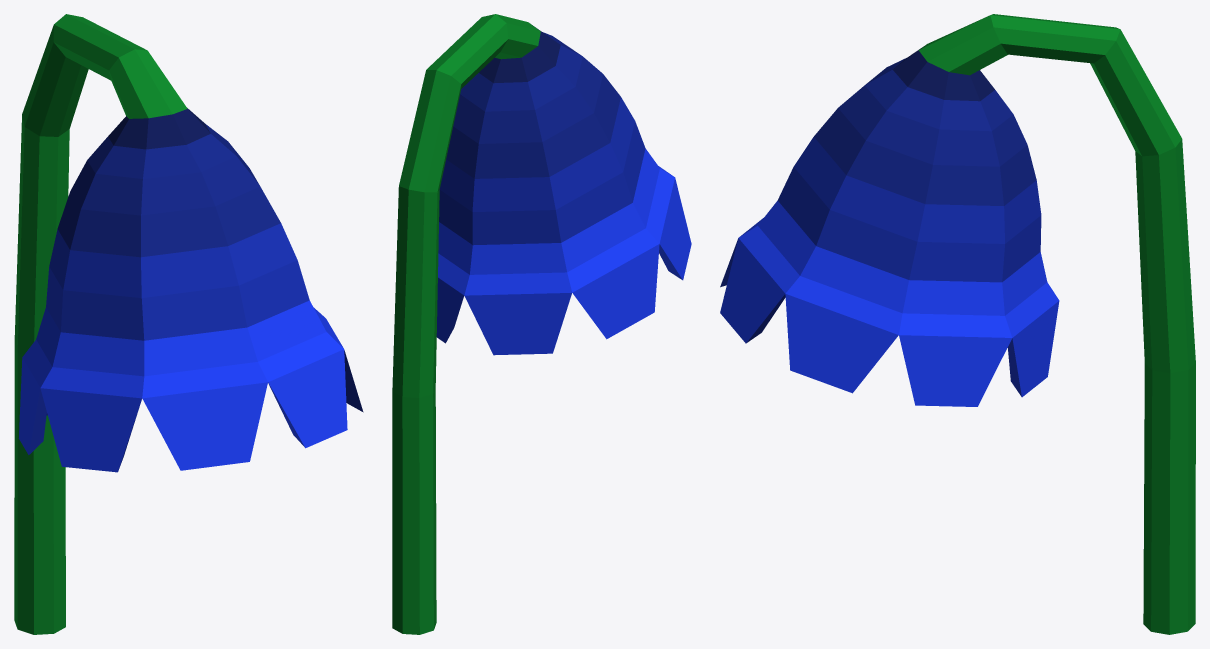
File: Flower2_animated.FBX
3 views of the same model, side by side, from view 1: azimuth 30°, elevation 25°; view 2: azimuth 150°, elevation 25°; view 3: azimuth 270°, elevation 25° (orthographic). The views are drawn at different scales.
Visible parts, largest first — view 1: Sphere; view 2: Sphere; view 3: Sphere.
Boxes of the visible parts, <box> form: Sphere: <box>14,14,363,634</box>; Sphere: <box>392,14,691,634</box>; Sphere: <box>720,14,1195,634</box>.
Size of the model in its own units: 61.23 by 129 by 91.44.
